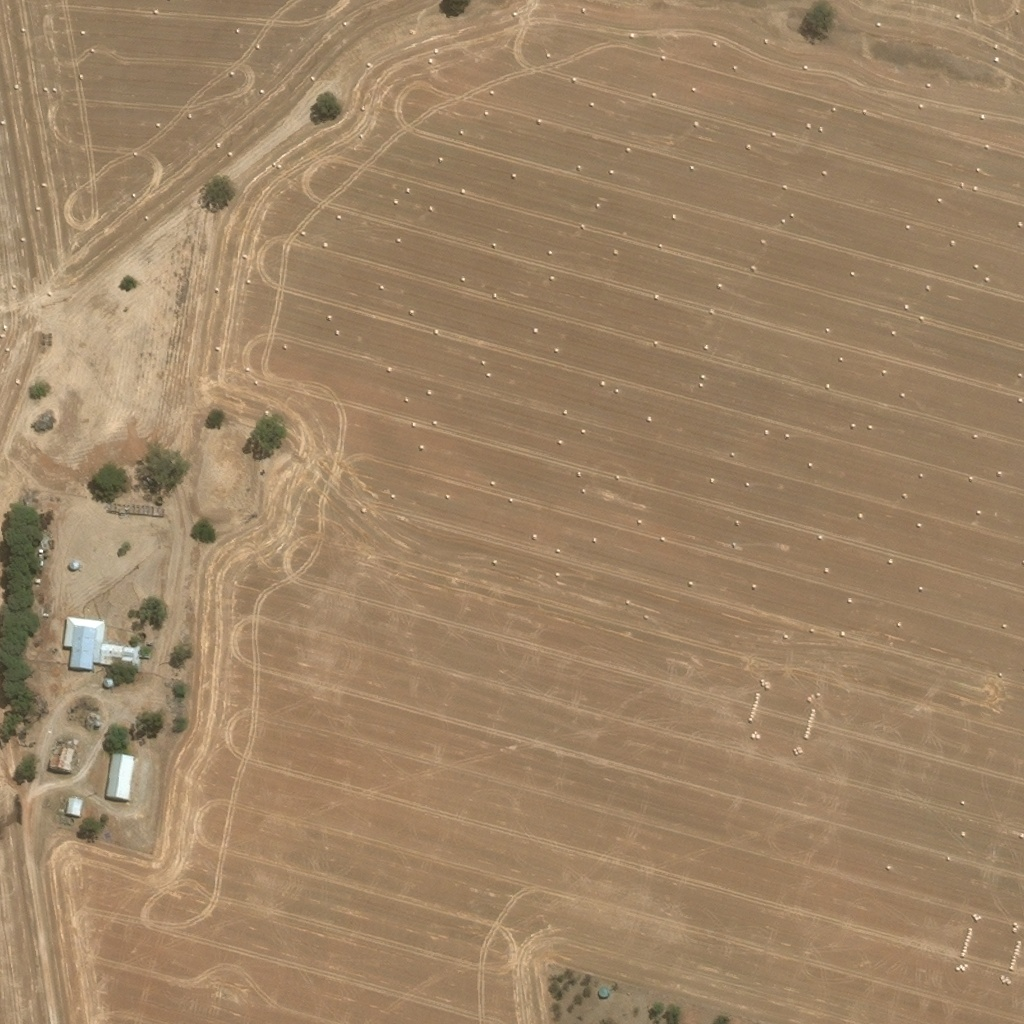0 no-damage: (61, 613, 141, 670), (105, 749, 136, 801), (65, 793, 82, 815)
2 major-damage: (49, 737, 76, 774)
